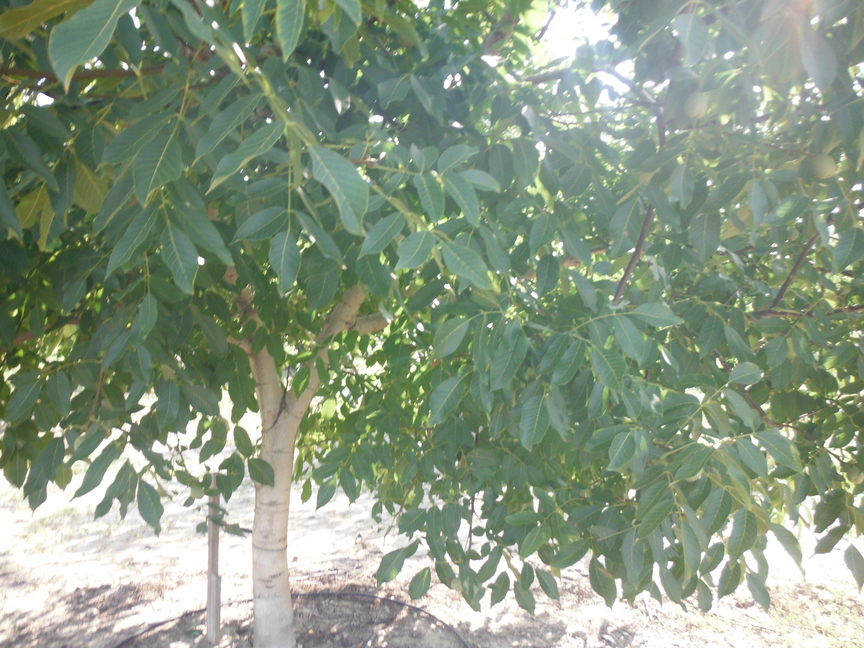walnut: (808, 149, 838, 184), (682, 88, 709, 123), (19, 347, 40, 376), (845, 464, 864, 487), (784, 226, 800, 244)
